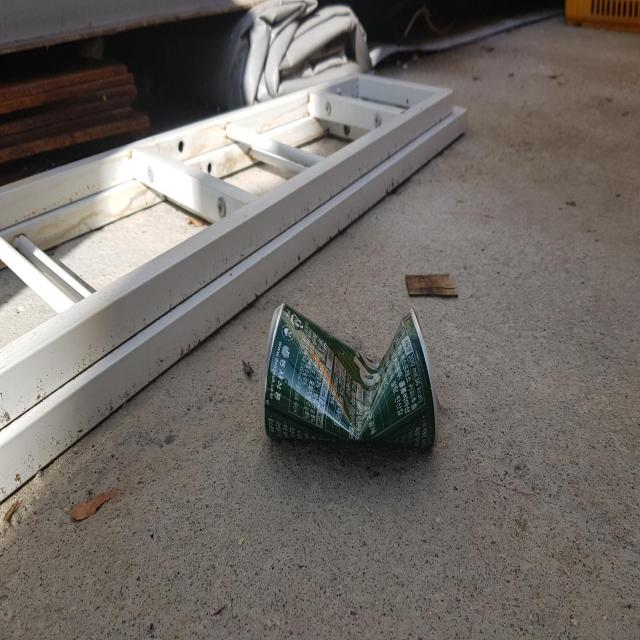can: (263, 303, 438, 447)
